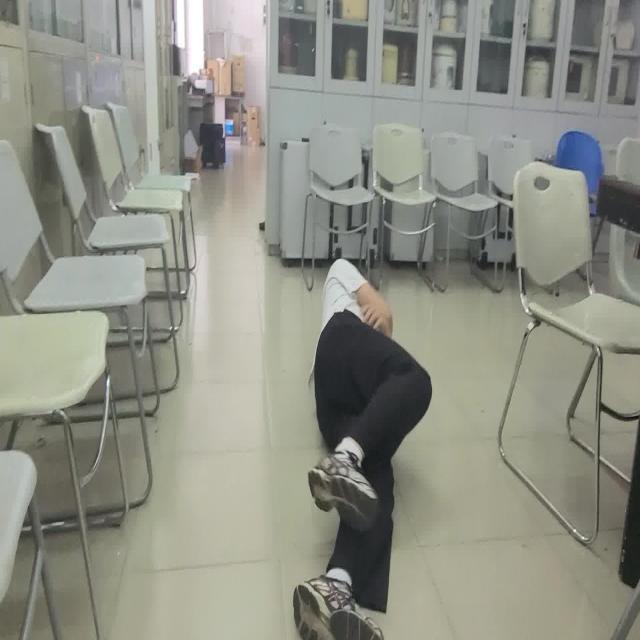fall: (291, 254, 444, 640)
